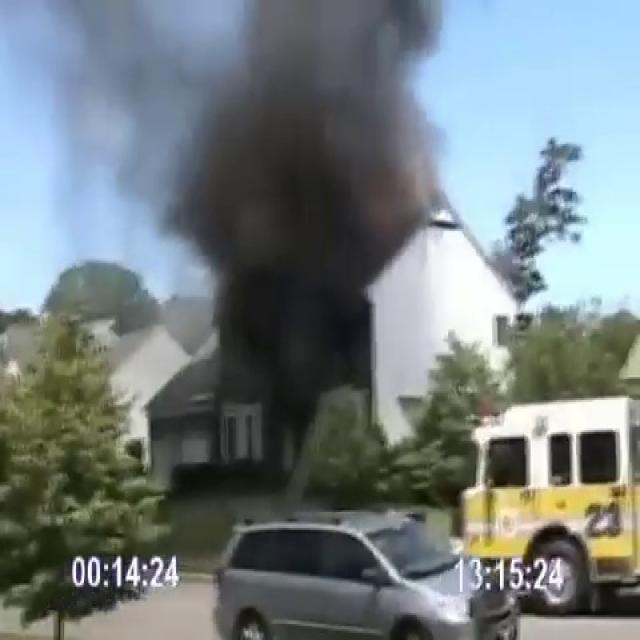Smoke: (50, 0, 476, 285)
